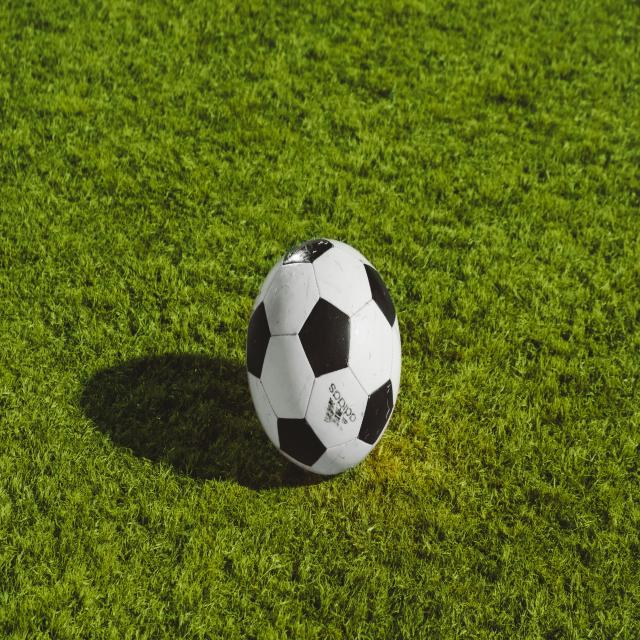Ball: (247, 238, 401, 474)
